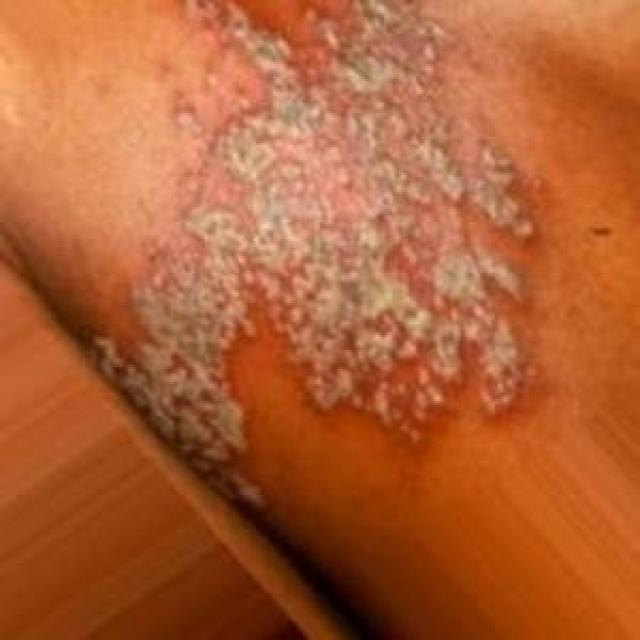Shingles: (88, 0, 541, 503)
